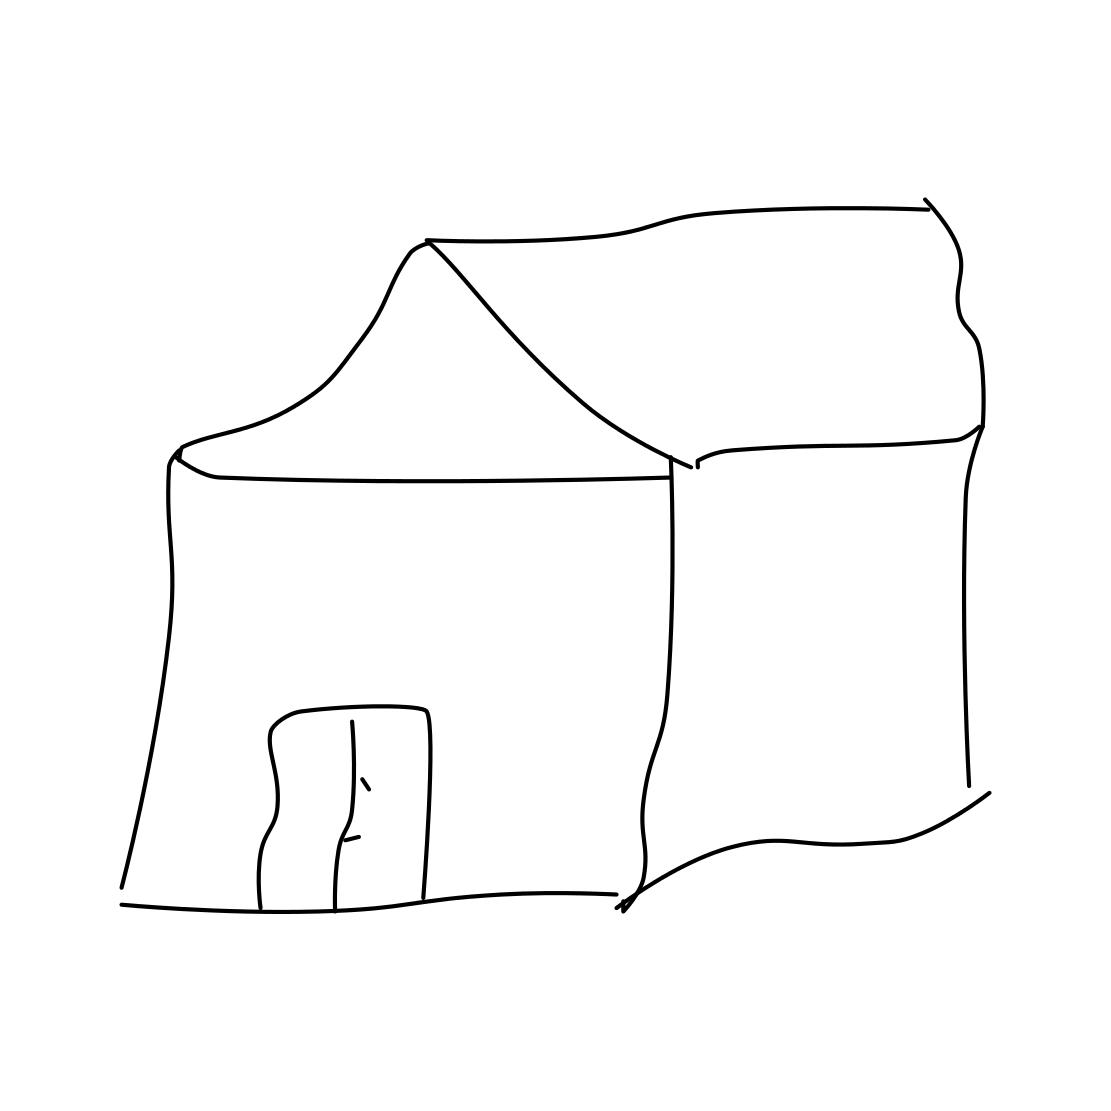House: (107, 178, 1019, 920)
